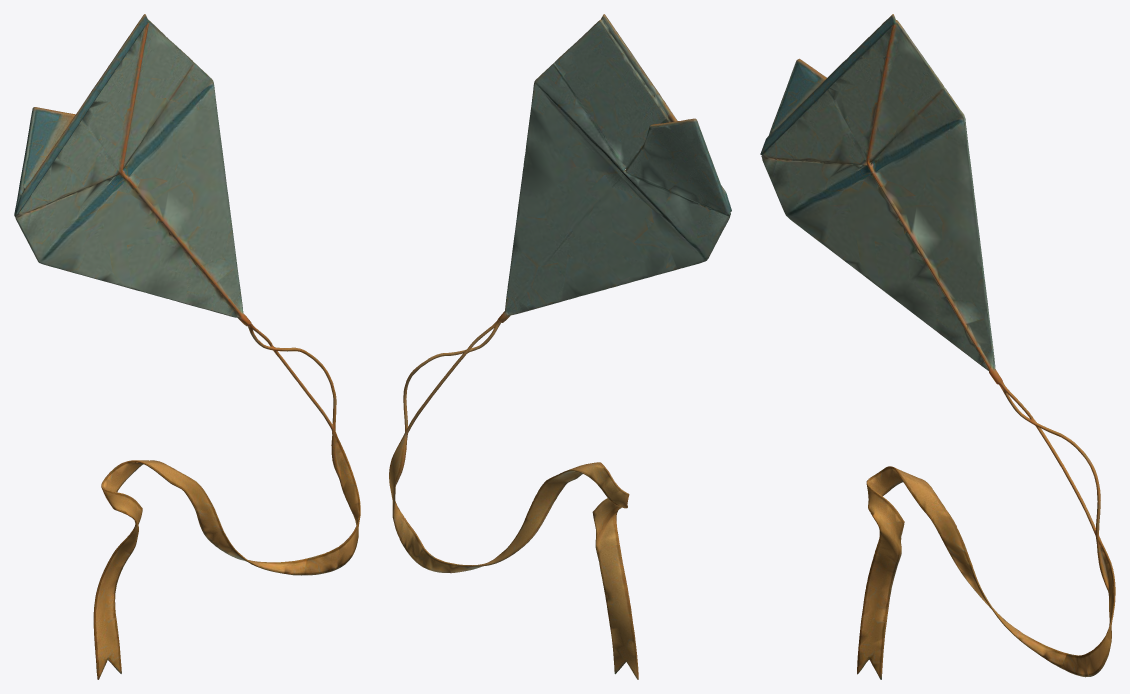
The model's file is kite.glb.
3 renders of one model, left to right at view 1: azimuth 30°, elevation 25°; view 2: azimuth 150°, elevation 25°; view 3: azimuth 330°, elevation 25°, orthographic. The views are drawn at different scales.
Size of the model in its own units: 1.03 by 1.89 by 0.094.
Materials: 1 (1 with a texture image).
